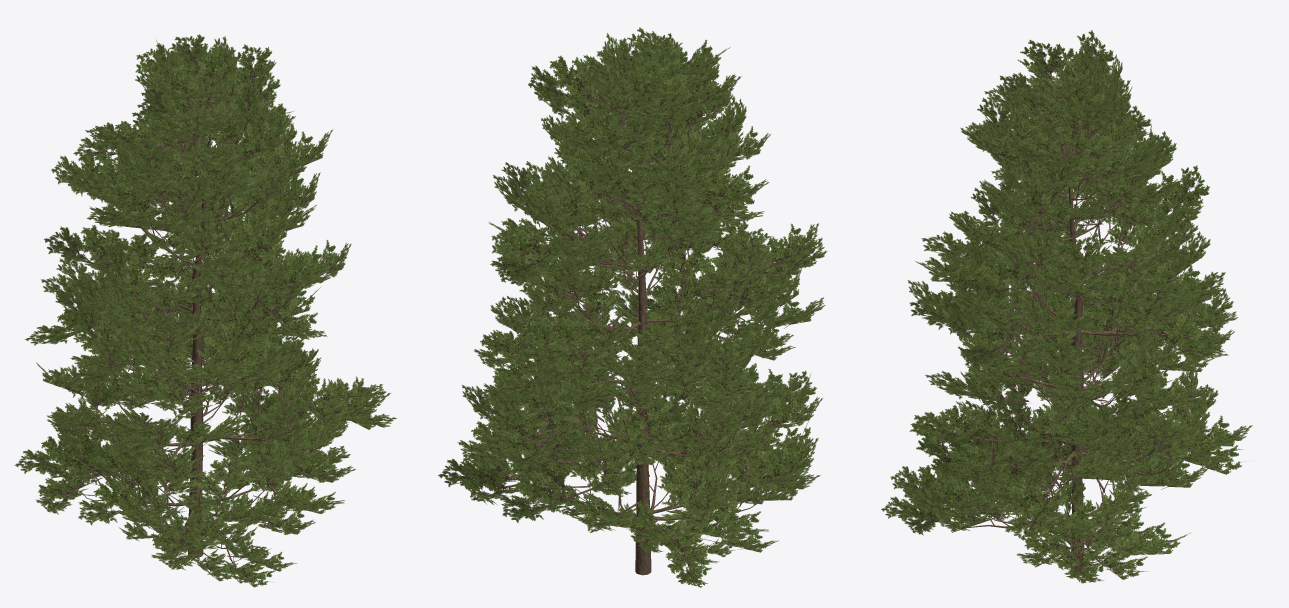
File: noblefir.gltf
The picture shows the model from 3 angles, left to right: view 1: azimuth 30°, elevation 25°; view 2: azimuth 150°, elevation 25°; view 3: azimuth 270°, elevation 25°; orthographic projection. The views are drawn at different scales.
Parts seen in each view (by area): view 1: Object_11, Object_10; view 2: Object_11, Object_10; view 3: Object_11, Object_10.
Boxes of the visible parts, x1=… form: Object_11: x1=14, y1=34, x2=396, y2=587; Object_10: x1=77, y1=97, x2=330, y2=566; Object_11: x1=438, y1=27, x2=827, y2=587; Object_10: x1=534, y1=102, x2=769, y2=575; Object_11: x1=881, y1=30, x2=1252, y2=583; Object_10: x1=949, y1=120, x2=1171, y2=572.
Bounding box in the file's own units: 5.27 × 7.45 × 5.05.
2 materials, 2 textured.
